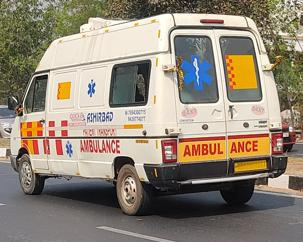ER: (11, 16, 272, 203)
